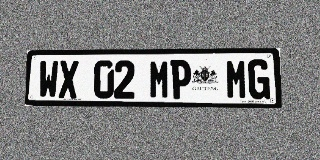0: (94, 60, 114, 99)
2: (114, 60, 135, 99)
G: (248, 59, 270, 99)
M: (226, 59, 248, 99), (149, 60, 170, 99)
P: (170, 60, 191, 99)
W: (38, 61, 59, 98)
X: (58, 60, 79, 98)
